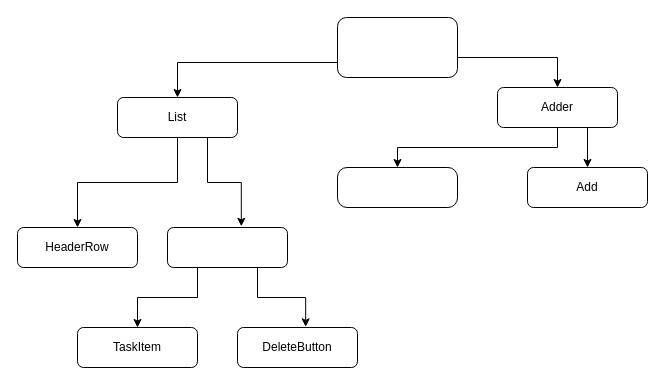
The diagram is 665 pixels wide and 385 high, and some of its shapes have lost their labels. The centre of each missing label's shape, as x and y in pixels:
"Container" belongs at pixel 397 47.
"TaskRow" belongs at pixel 227 247.
"TextInput" belongs at pixel 397 187.
